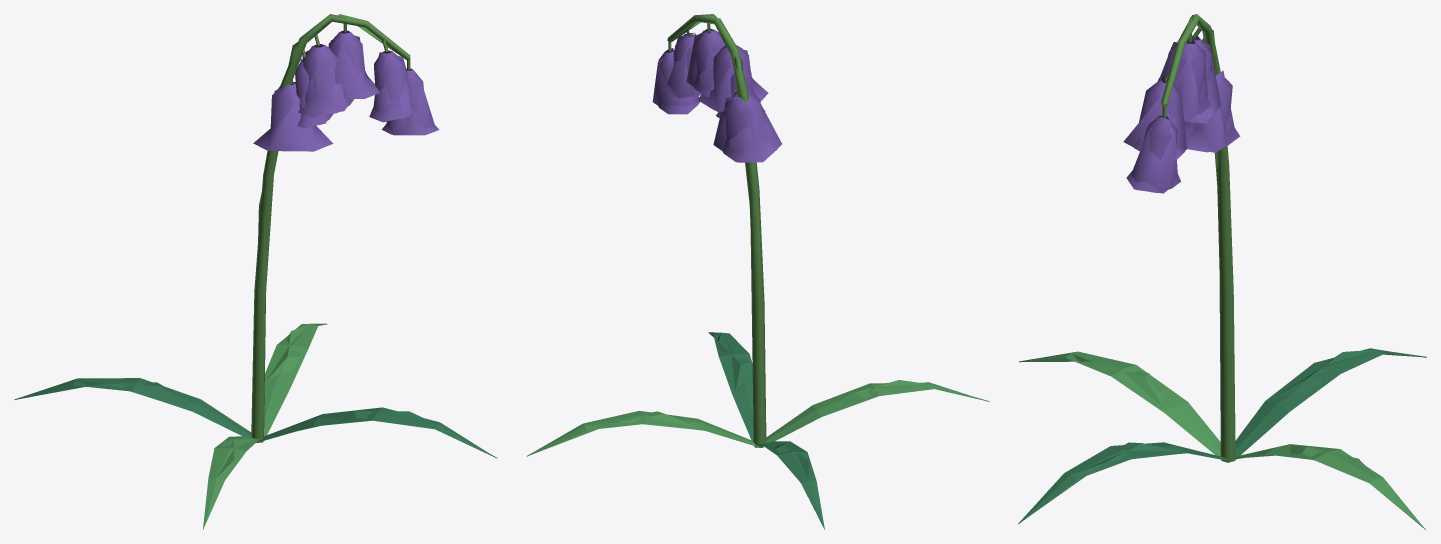
File: bluebell_b.glb
The picture shows the model from 3 angles, left to right: view 1: azimuth 30°, elevation 25°; view 2: azimuth 150°, elevation 25°; view 3: azimuth 270°, elevation 25°; orthographic projection. The views are drawn at different scales.
Parts seen in each view (by area): view 1: body__far, leaf_nl, petal_violet_nl, stem; view 2: body__far, leaf_nl, petal_violet_nl, stem; view 3: body__far, leaf_nl, stem, petal_violet_nl.
Part boxes in pixels (x1,y1,x2,y2): body__far: [20, 14, 452, 492]; leaf_nl: [14, 323, 497, 529]; petal_violet_nl: [257, 30, 439, 151]; stem: [251, 14, 410, 442]; body__far: [534, 14, 948, 494]; leaf_nl: [526, 332, 989, 529]; petal_violet_nl: [658, 28, 777, 162]; stem: [667, 15, 766, 447]; body__far: [1024, 17, 1417, 517]; leaf_nl: [1018, 348, 1426, 529]; stem: [1161, 14, 1235, 462]; petal_violet_nl: [1126, 35, 1240, 192].
Bounding box in the file's own units: 11.49 × 14.88 × 11.51.
